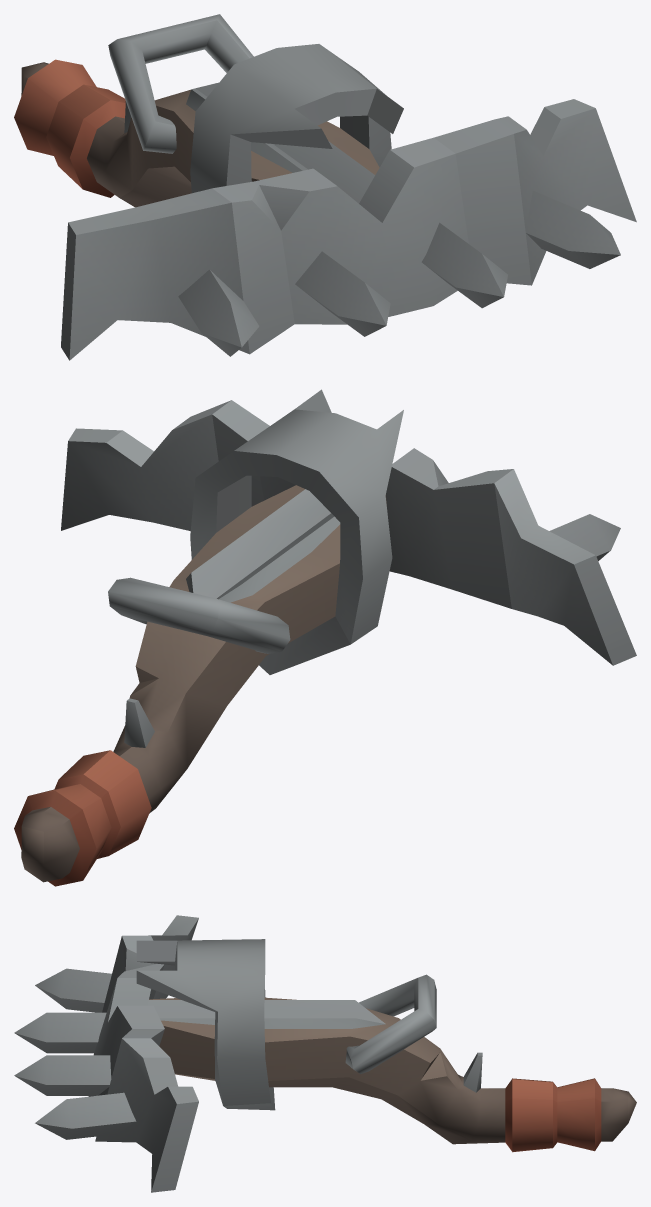
The model's file is Skeleton_Crossbow.glb.
The picture shows the model from 3 angles, top to bottom: view 1: azimuth 30°, elevation 25°; view 2: azimuth 150°, elevation 25°; view 3: azimuth 270°, elevation 25°; orthographic projection. The views are drawn at different scales.
Bounding box in the file's own units: 1.11 × 0.5082 × 1.42.
1 material, 1 textured.
